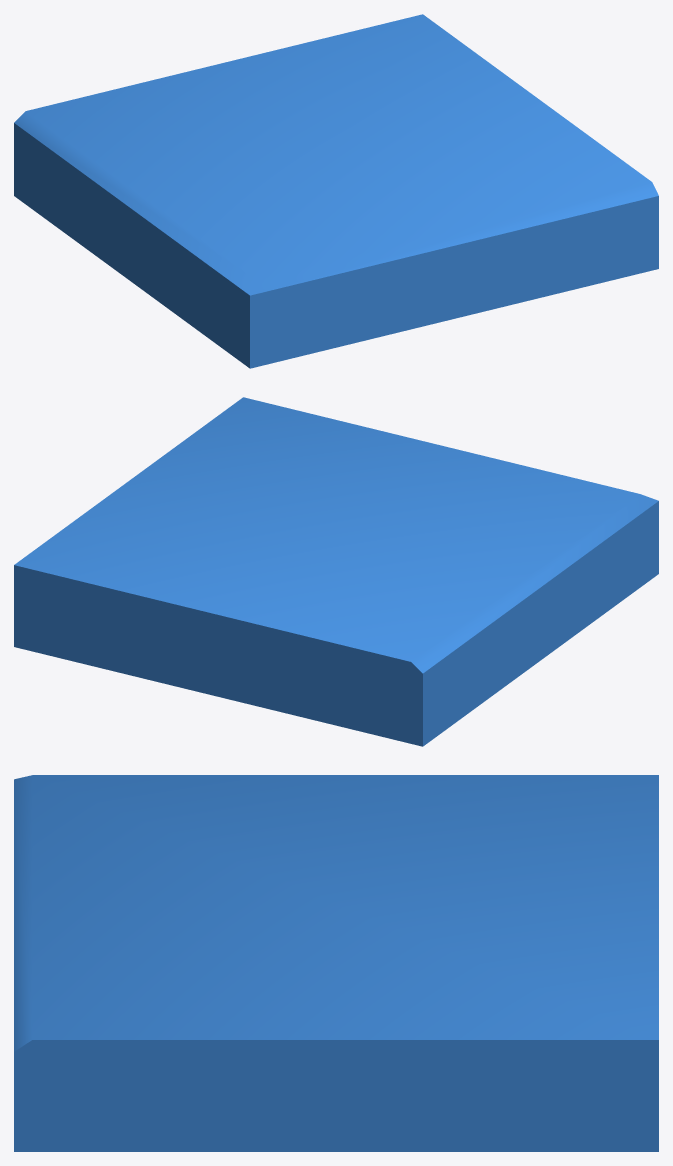
File: Collision_Prop_ExteriorBorder_Corner.fbx
3 renders of one model, top to bottom at view 1: azimuth 30°, elevation 25°; view 2: azimuth 150°, elevation 25°; view 3: azimuth 270°, elevation 25°, orthographic. The views are drawn at different scales.
Parts seen in each view (by area): view 1: UCX_Prop_ExteriorBorder_Corner_1; view 2: UCX_Prop_ExteriorBorder_Corner_1; view 3: UCX_Prop_ExteriorBorder_Corner_1.
Part boxes in pixels (bbox=[...]): UCX_Prop_ExteriorBorder_Corner_1: bbox=[14, 14, 658, 368]; UCX_Prop_ExteriorBorder_Corner_1: bbox=[14, 397, 658, 746]; UCX_Prop_ExteriorBorder_Corner_1: bbox=[14, 775, 658, 1151].
Size of the model in its own units: 70 by 13.4 by 70.
